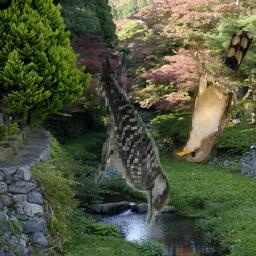Cuckoo: (174, 32, 255, 163)
Woodpecker: (96, 54, 171, 232)
